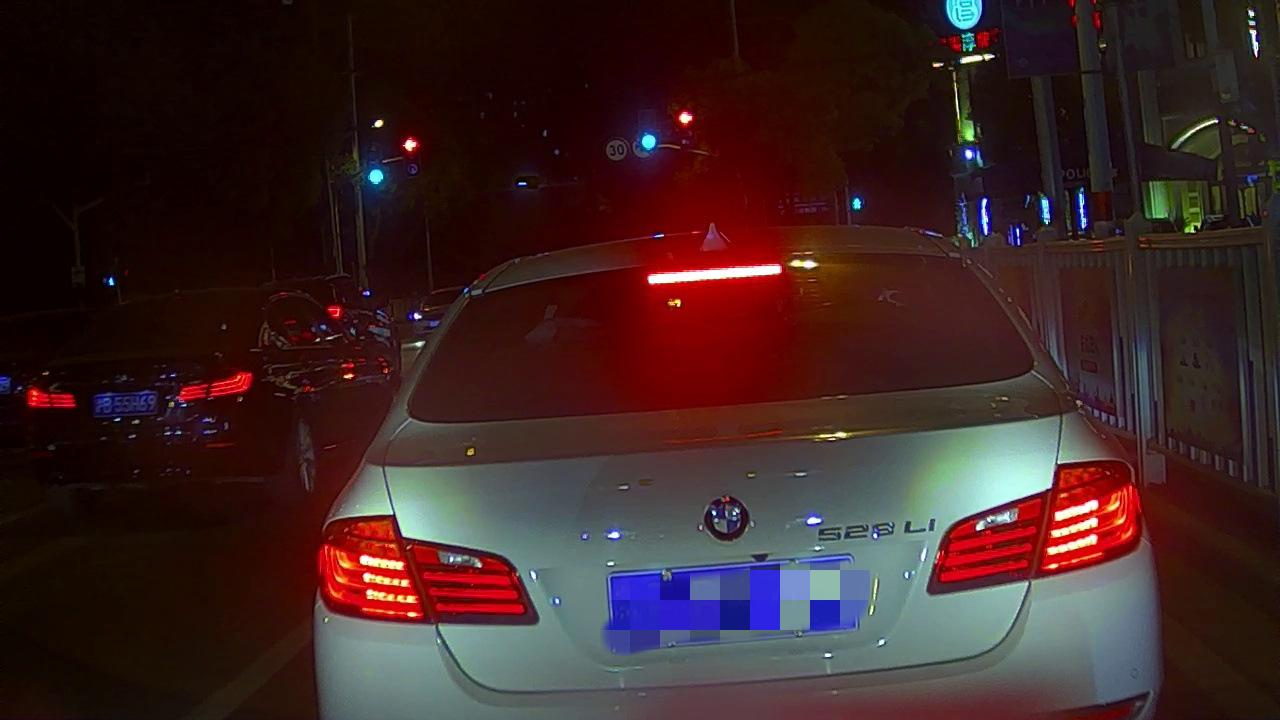traffic_light: (671, 105, 698, 129), (635, 131, 661, 153), (399, 134, 423, 156), (366, 165, 387, 188)
